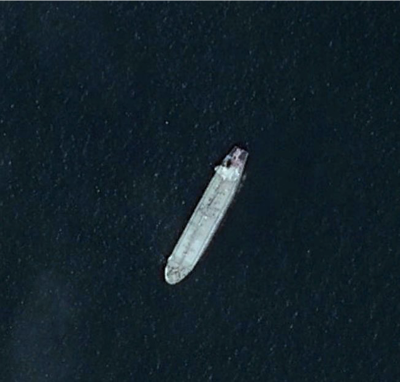boat: (165, 145, 250, 287)
